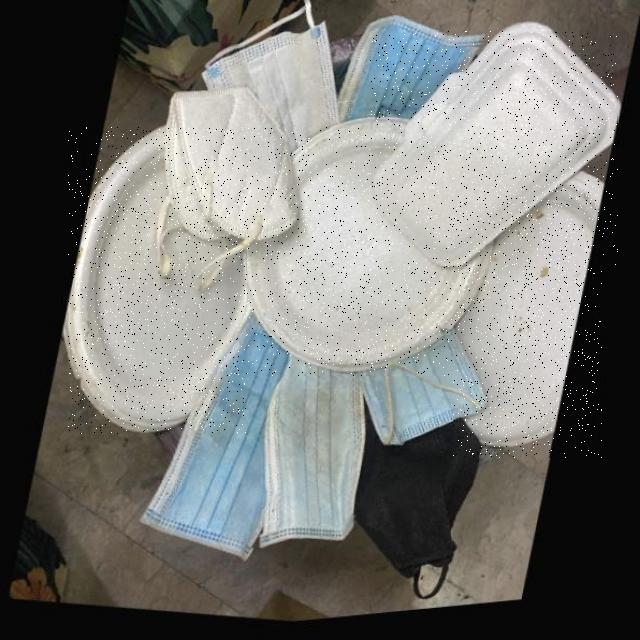styrofoam: (240, 127, 493, 375), (370, 31, 618, 278), (68, 127, 247, 433), (453, 184, 602, 457)
